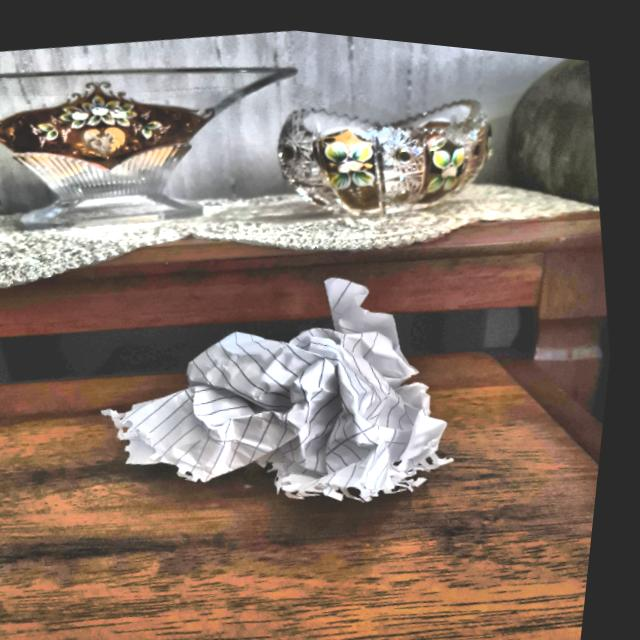Paper: (94, 249, 486, 541)
